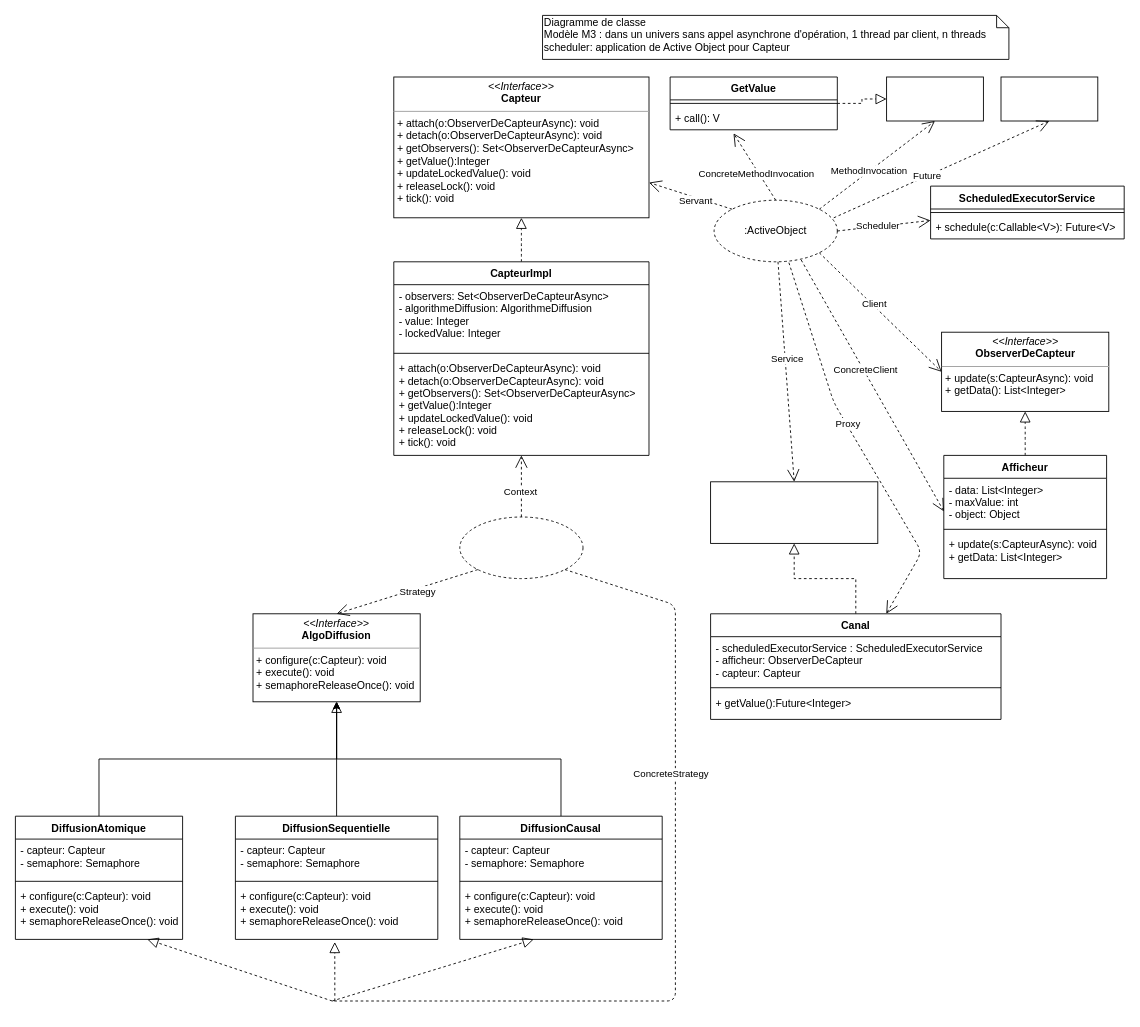
This 1140x1027 diagram has some shape labels left out. Each missing label, with the centre of its shape:
":Strategy" goes at (x=521, y=547).
"<<Interface>> Callable<V>" goes at (x=934, y=98).
"<<Interface>> CapteurAsync + getValue(): Future<Integer>" goes at (x=794, y=512).
"<<Interface>> Future<Integer>" goes at (x=1049, y=98).
